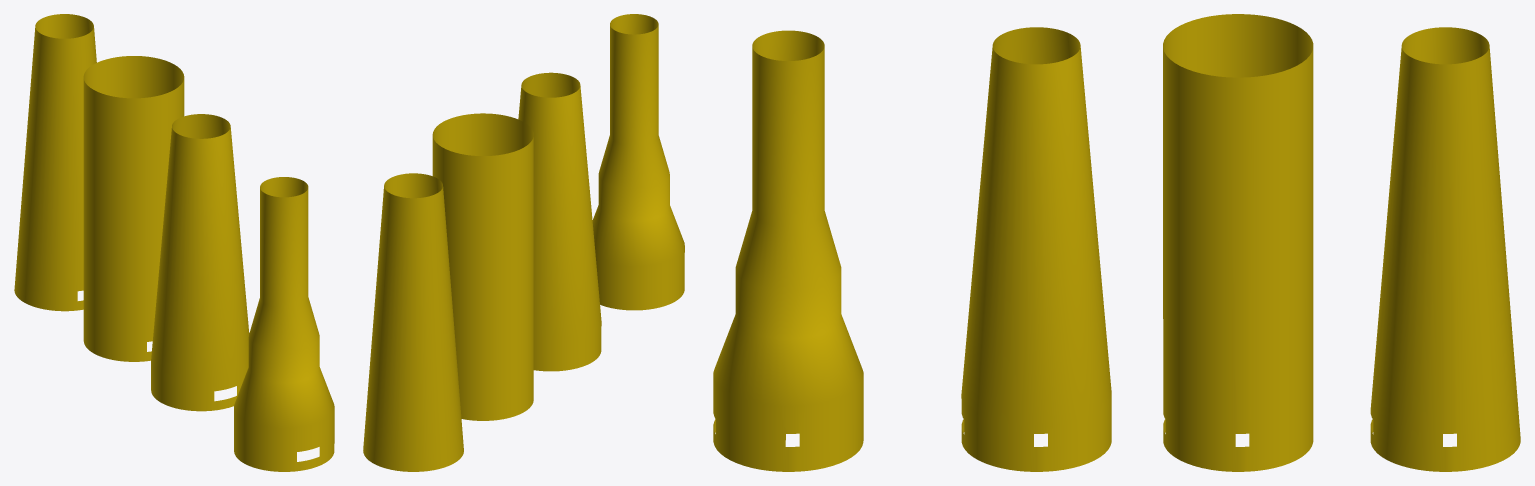
File: Hall.fbx
3 renders of one model, left to right at view 1: azimuth 30°, elevation 25°; view 2: azimuth 150°, elevation 25°; view 3: azimuth 270°, elevation 25°, orthographic. The views are drawn at different scales.
Parts seen in each view (by area): view 1: Hall4, Hall7, Hall8, Hall5; view 2: Hall4, Hall5, Hall8, Hall7; view 3: Hall4, Hall7, Hall5, Hall8.
Part boxes in pixels (x1,y1,x2,y2): Hall4: (83, 56, 184, 361); Hall7: (151, 114, 249, 411); Hall8: (234, 177, 334, 471); Hall5: (14, 14, 96, 311); Hall4: (432, 113, 533, 420); Hall5: (363, 173, 463, 471); Hall8: (592, 14, 684, 310); Hall7: (518, 72, 601, 371); Hall4: (1163, 14, 1313, 471); Hall7: (961, 27, 1111, 471); Hall5: (1370, 27, 1520, 471); Hall8: (713, 30, 863, 471).
Bounding box in the file's own units: 5202 × 15032 × 27887.
